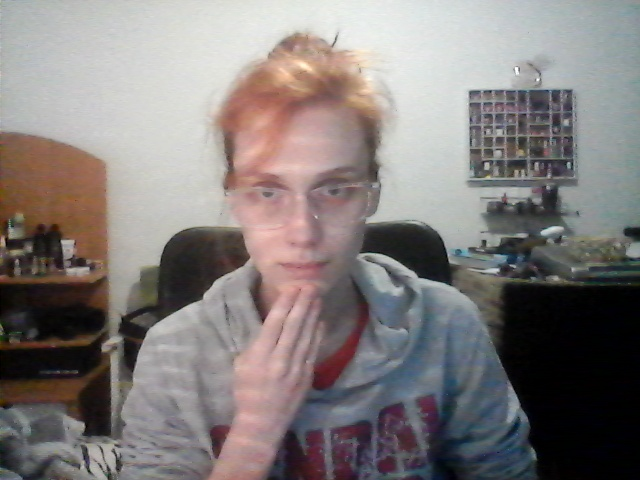dakujem: (219, 275, 356, 425)
